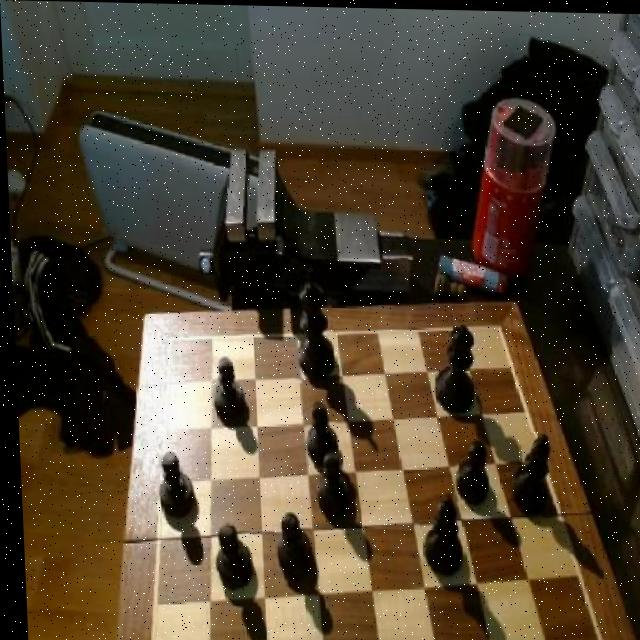bishop: (502, 429, 553, 516), (415, 491, 463, 579)
black-bishop: (287, 268, 335, 383)
black-knight: (150, 450, 192, 523), (208, 520, 250, 593), (268, 509, 309, 581), (447, 437, 487, 503), (310, 448, 348, 517), (298, 397, 336, 465), (208, 357, 245, 422)
black-pawn: (428, 323, 477, 414)
